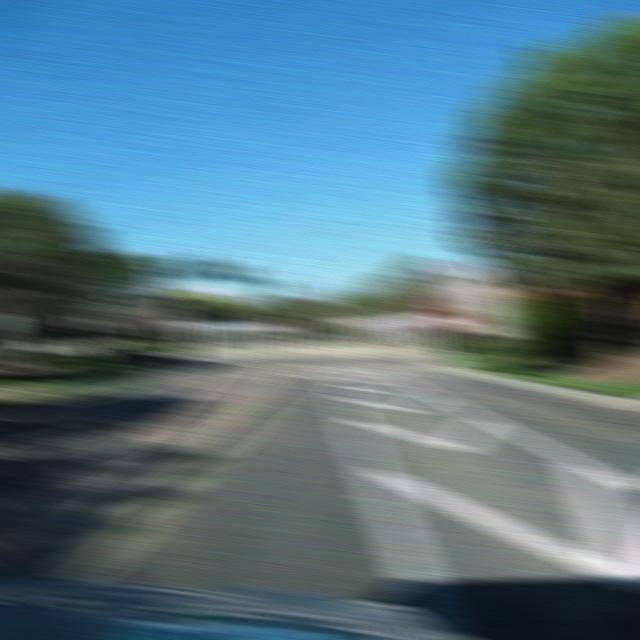stop_sign: (438, 311, 466, 330), (274, 316, 300, 333)
